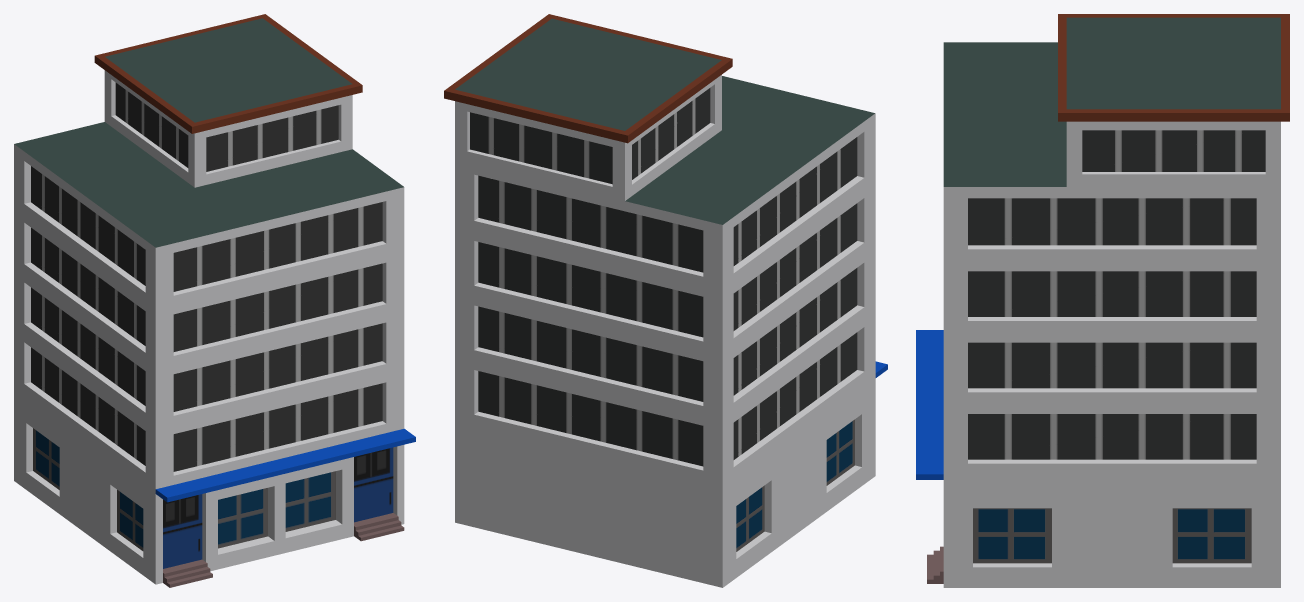
The model's file is building18b.FBX.
The picture shows the model from 3 angles, left to right: view 1: azimuth 30°, elevation 25°; view 2: azimuth 150°, elevation 25°; view 3: azimuth 270°, elevation 25°; orthographic projection. The views are drawn at different scales.
Parts seen in each view (by area): view 1: building18b; view 2: building18b; view 3: building18b.
Boxes of the visible parts, left/top/right/bottom form: building18b: left=14, top=14, right=415, bottom=587; building18b: left=444, top=14, right=887, bottom=587; building18b: left=916, top=14, right=1289, bottom=587.
Size of the model in its own units: 20.5 by 30.88 by 21.86.
